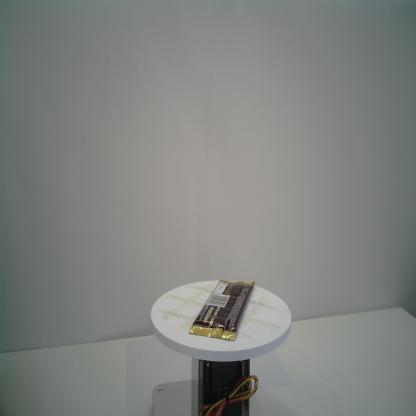Chocolate: (189, 277, 257, 343)
